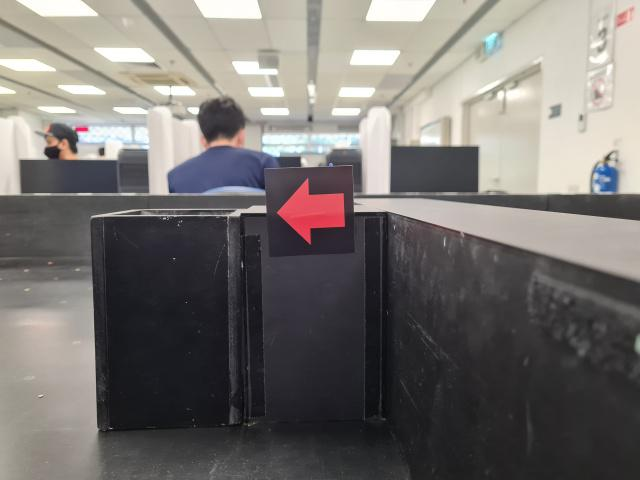left: (263, 166, 355, 256)
